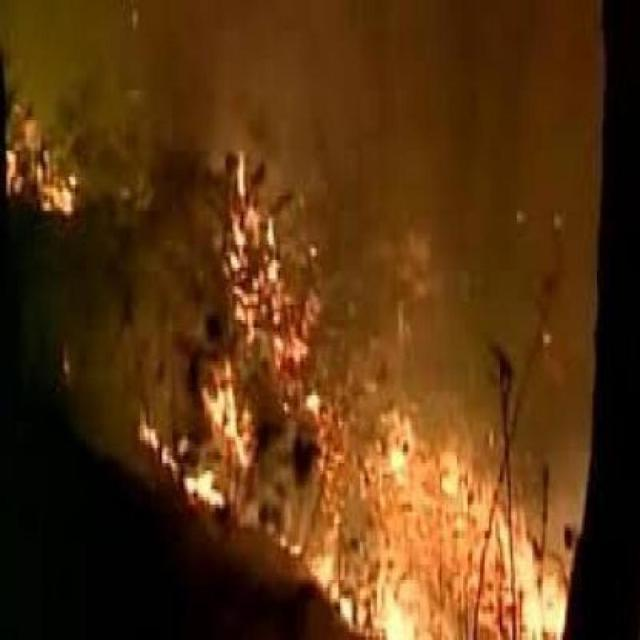Fire: (18, 167, 597, 640)
